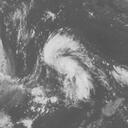cyclone: (42, 33, 98, 101)
